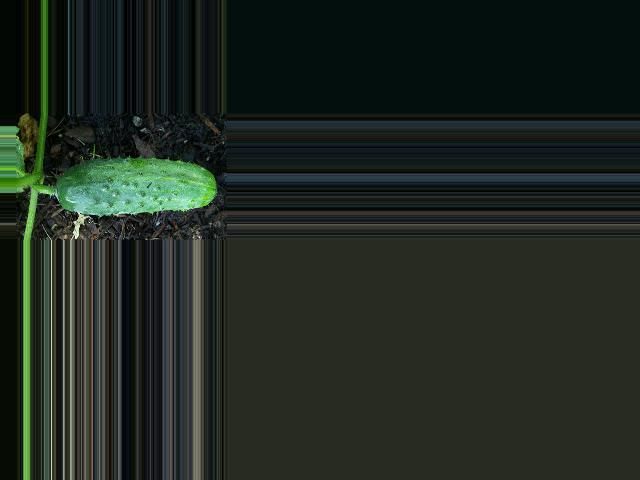cucumber: (56, 157, 218, 215)
